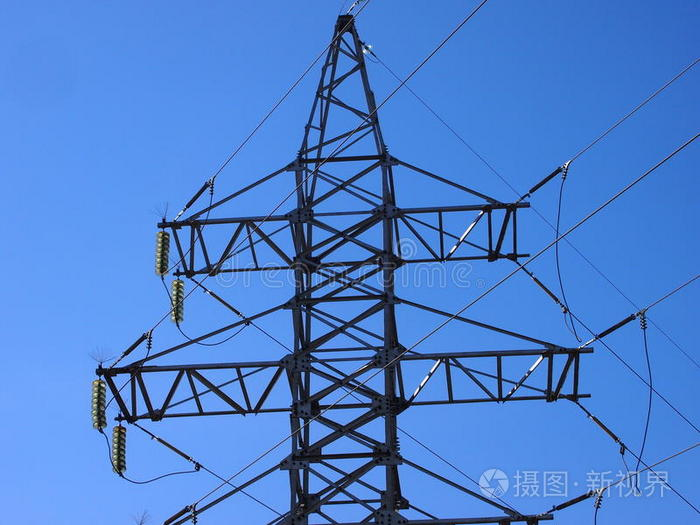insulator: (90, 381, 109, 430), (110, 427, 128, 475), (152, 232, 172, 275), (169, 279, 185, 323)
